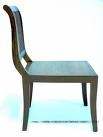obstacle: (3, 5, 97, 131)
